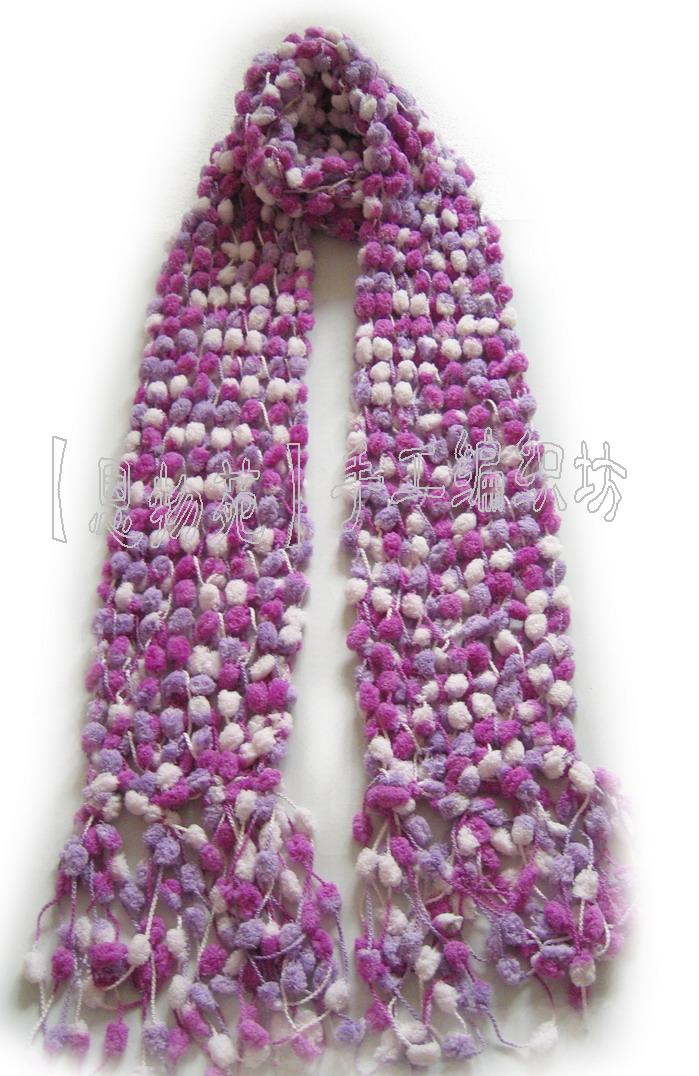flexible: (30, 24, 646, 1073)
